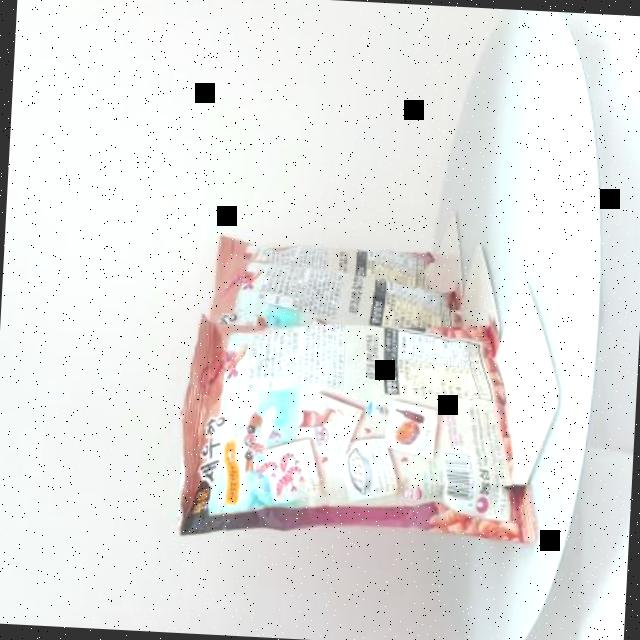snack_bag: (165, 208, 558, 560)
